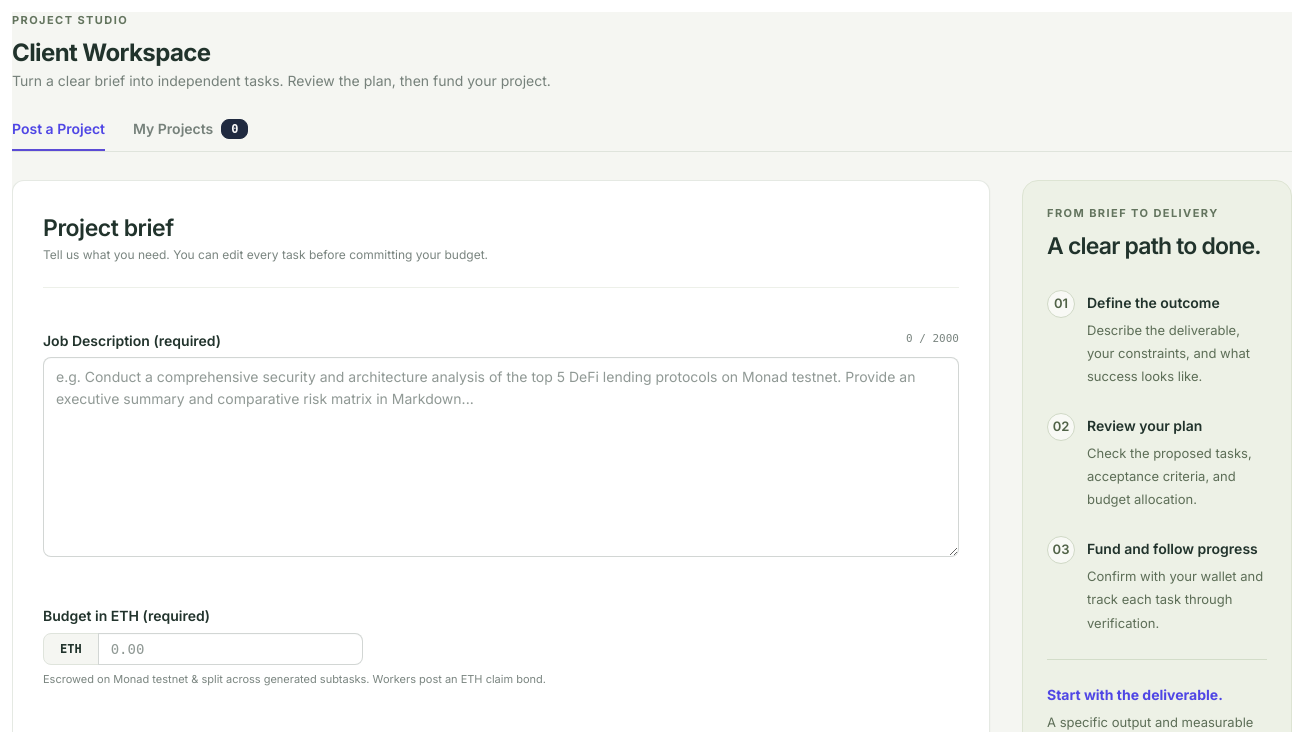
Scenario: CustomerDashboard create-task validation › warns when the budget exceeds the wallet balance
In the number field with id "task-budget": (230, 649) x1=98 y1=633 x2=363 y2=665, type "12"
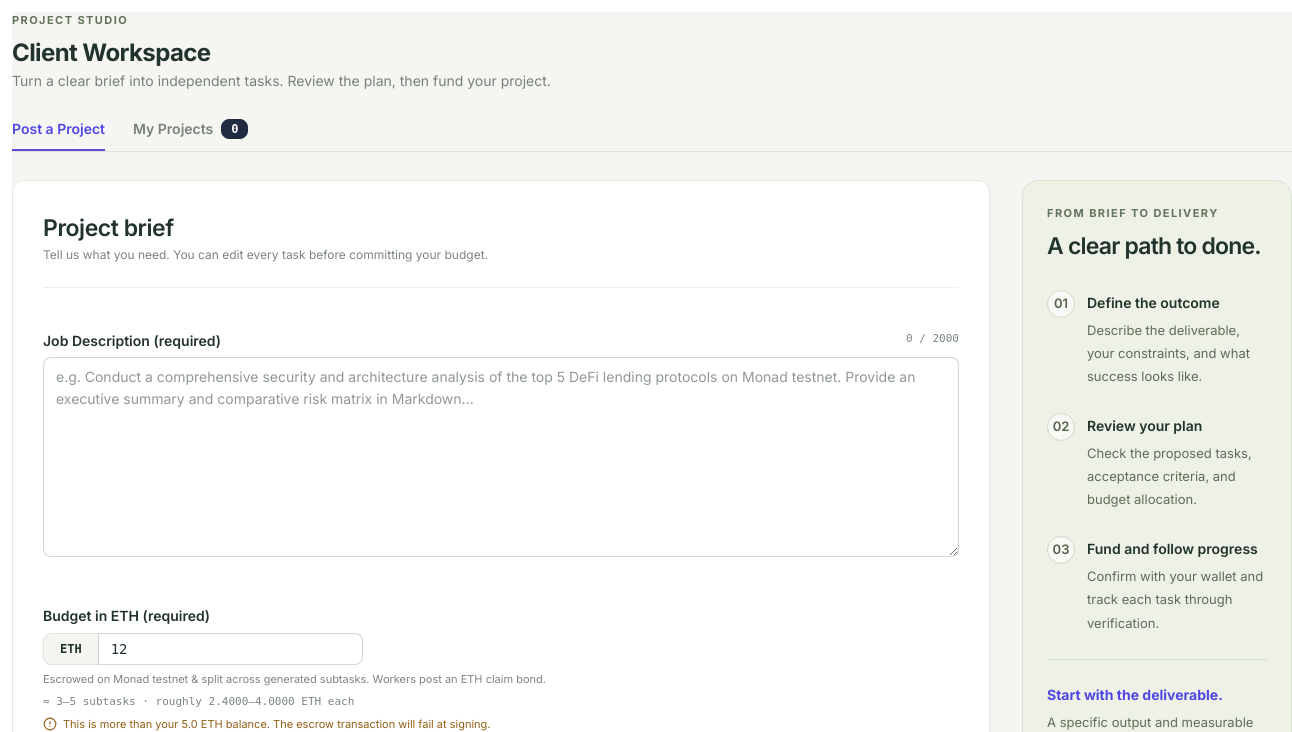
Now the text "more than your 5.0 ETH balance" is shown, box x1=63 y1=716 x2=490 y2=731
